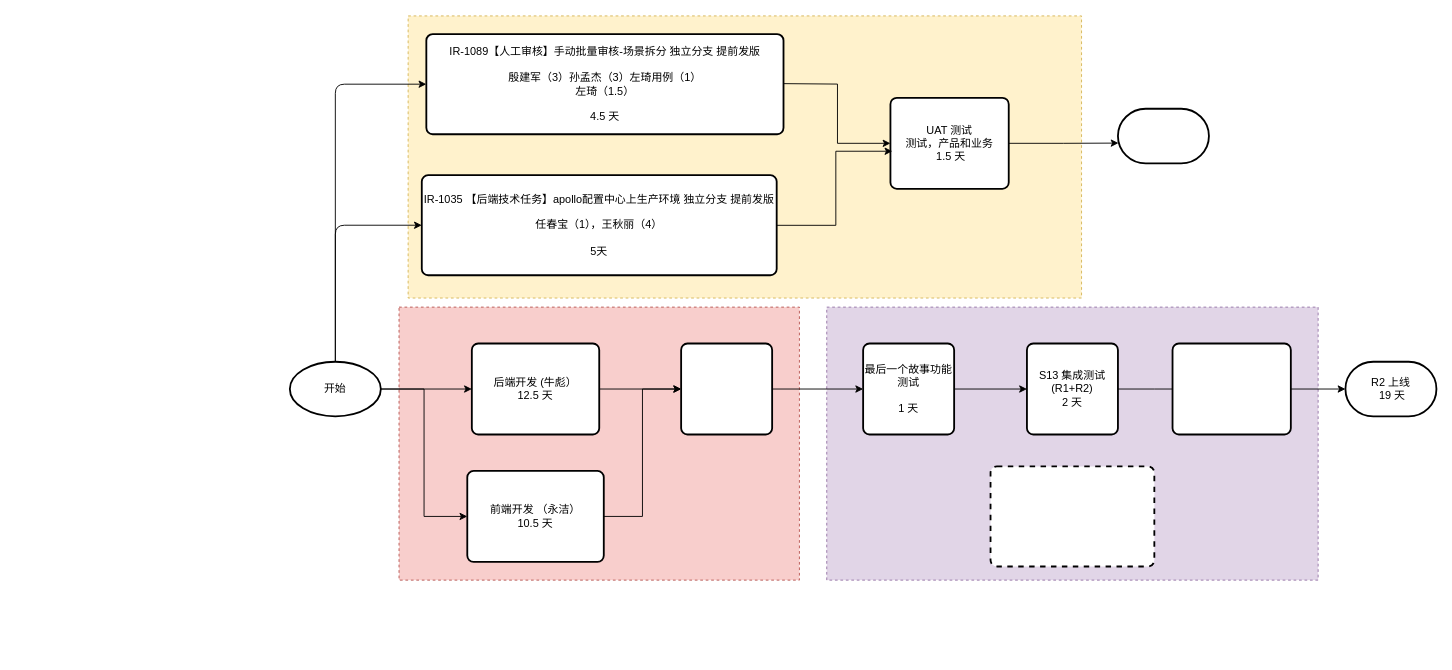
Some shapes in this 1452 by 670 pixel diagram are drawn without their labels. Each missing label, with the centre of its shape:
R1 上线 6.5 天: point (1163, 135)
UAT 测试 测试，产品和业务 2.5 天: point (1231, 388)
最后一个故事前后端联调 1 天: point (726, 388)
集成测试范围 人工审核（详情，列表） 结果（详情，列表） 批量导出: point (1072, 516)
